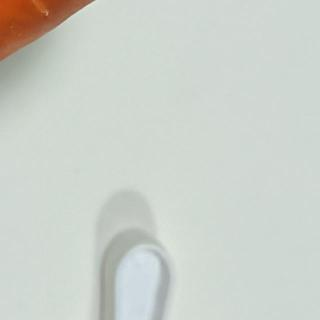carrot: (0, 0, 192, 320)
